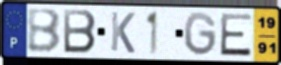1: (144, 9, 163, 57)
B: (61, 7, 98, 55), (25, 8, 62, 55)
E: (219, 12, 254, 58)
G: (183, 11, 219, 58)
K: (109, 10, 136, 55)
